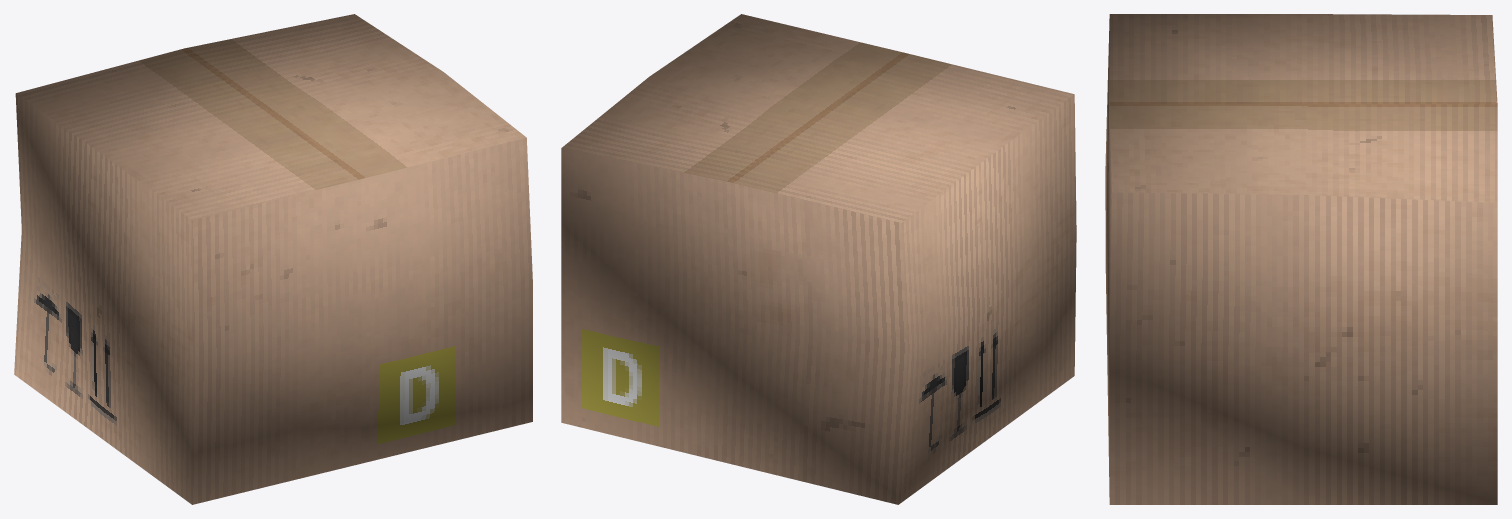
Rendered from Karton3.gltf.
3 views of the same model, side by side, from view 1: azimuth 30°, elevation 25°; view 2: azimuth 150°, elevation 25°; view 3: azimuth 270°, elevation 25° (orthographic). The views are drawn at different scales.
Visible parts, largest first — view 1: Karton_3; view 2: Karton_3; view 3: Karton_3.
Part boxes in pixels (x1=…): Karton_3: x1=14, y1=14, x2=532, y2=504; Karton_3: x1=561, y1=14, x2=1076, y2=504; Karton_3: x1=1105, y1=14, x2=1497, y2=504.
Bounding box in the file's own units: 0.4394 × 0.342 × 0.3921.
Materials: 1 (1 with a texture image).
